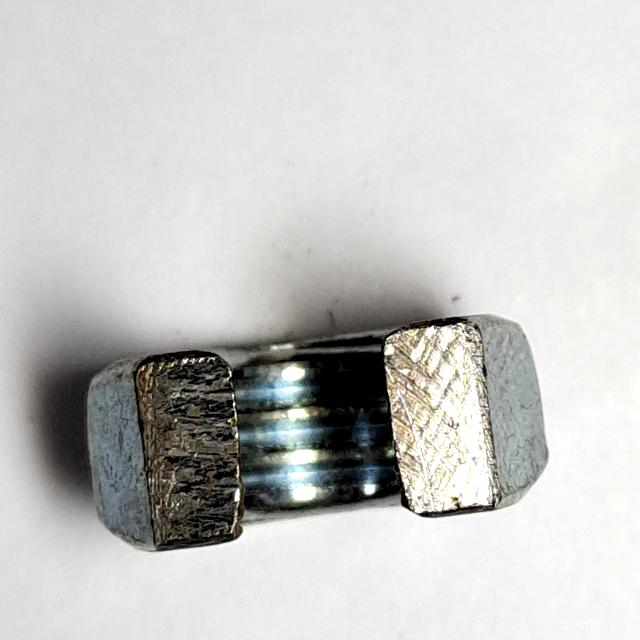Side-Fracture: (79, 301, 567, 567)
